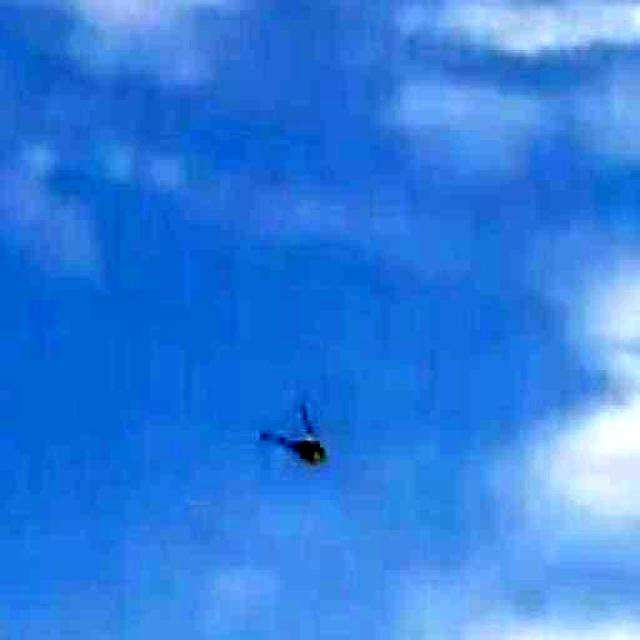drone: (261, 398, 331, 474)
